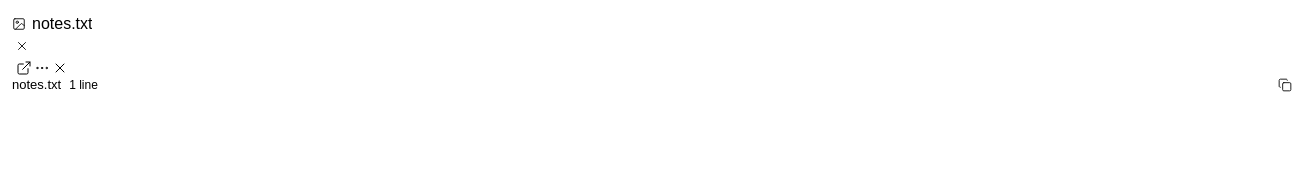
Test: a file in the panel › keeps the menu, because it holds a second item
This screenshot has width=1304, height=172.
What coordinates should you click on to do the following:
click the button named "More actions"
I would click on:
 (42, 68)
Its box is [34, 60, 50, 76].
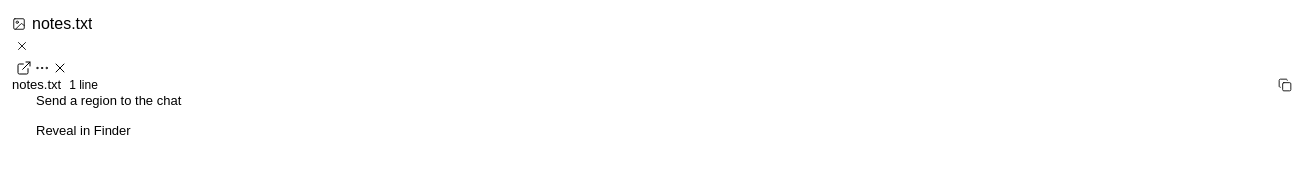
Result: the menu item with test id "artifact-annotate" is shown at [36, 93, 181, 108]
Result: the menu item with test id "artifact-reveal" is shown at [36, 123, 131, 138]
